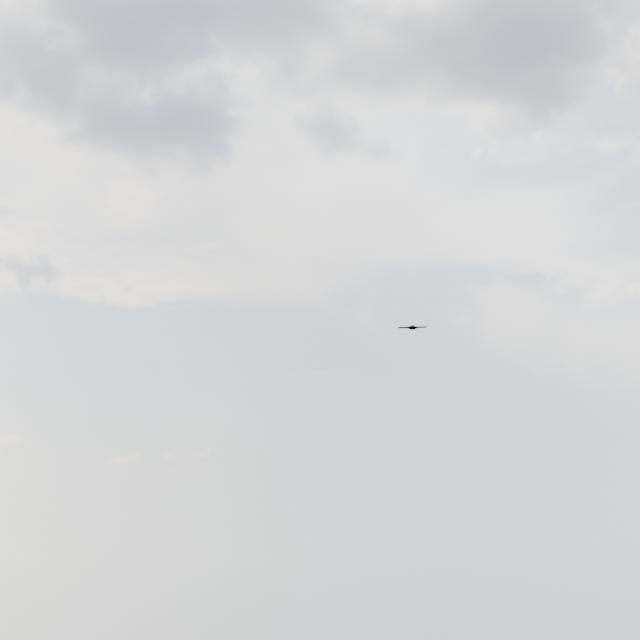Airaplan: (398, 325, 427, 331)
